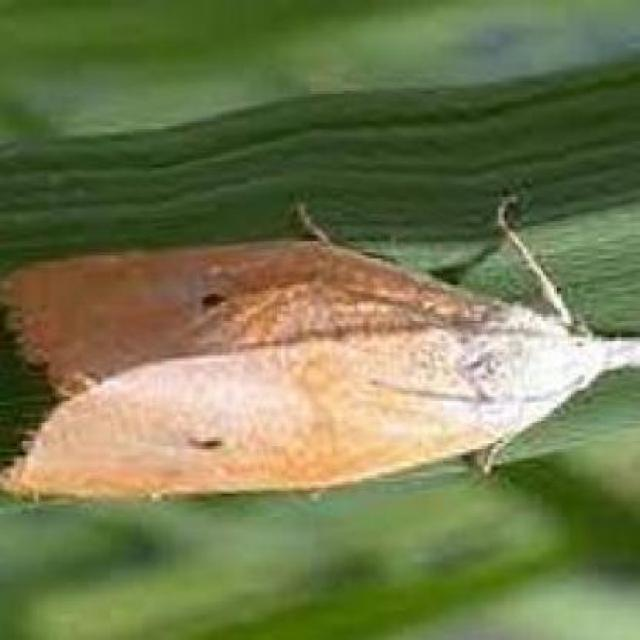stem-borer: (0, 194, 640, 503)
